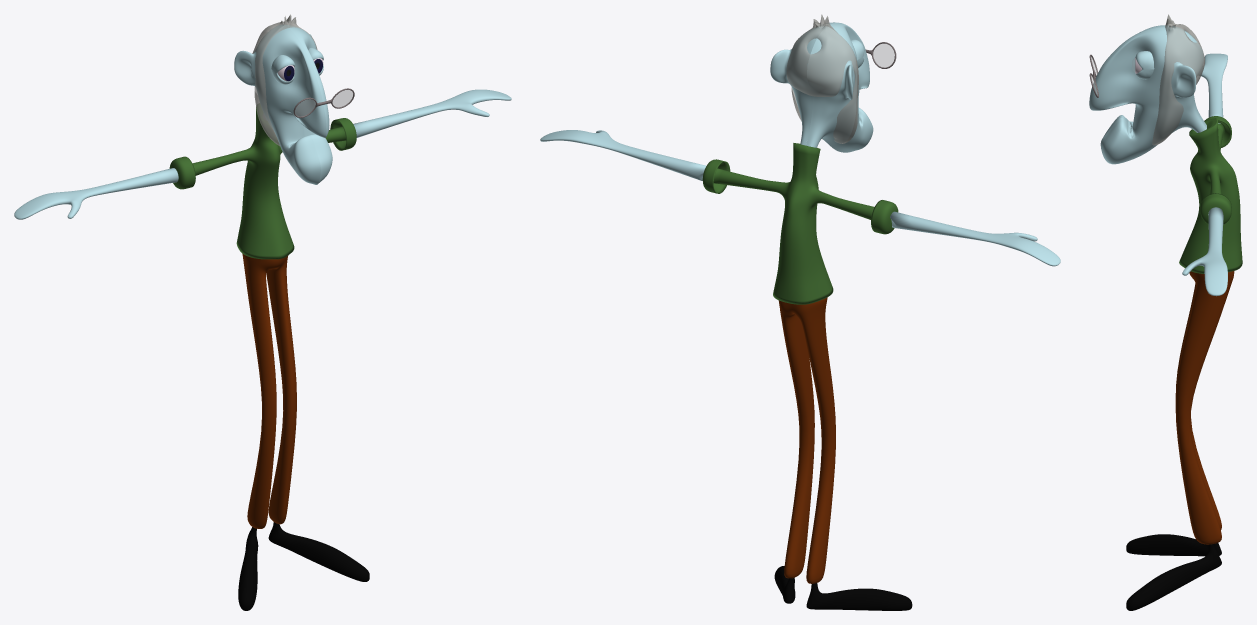
The model's file is janitor.fbx.
The picture shows the model from 3 angles, left to right: view 1: azimuth 30°, elevation 25°; view 2: azimuth 150°, elevation 25°; view 3: azimuth 270°, elevation 25°; orthographic projection. The views are drawn at different scales.
Parts seen in each view (by area): view 1: Trousers, Head, Top, Arms, Feet, Hair; view 2: Trousers, Top, Head, Hair, Arms, Feet; view 3: Head, Trousers, Top, Feet, Hair, Arms, Eyelids.
Part boxes in pixels (x1,y1,x2,y2): Trousers: (242,254,296,528); Head: (234,25,332,184); Top: (169,107,356,259); Arms: (14,89,511,219); Feet: (238,522,369,610); Hair: (252,14,317,145); Trousers: (778,297,835,583); Top: (702,143,898,304); Head: (770,22,873,152); Hair: (786,14,858,143); Arms: (540,130,1060,266); Feet: (774,566,912,610); Head: (1089,25,1206,164); Trousers: (1175,271,1234,544); Top: (1179,116,1242,273); Feet: (1126,534,1221,610); Hair: (1152,14,1204,145); Arms: (1182,53,1227,296); Eyelids: (1135,51,1154,79).
Bounding box in the file's own units: 293 × 321 × 78.69.
